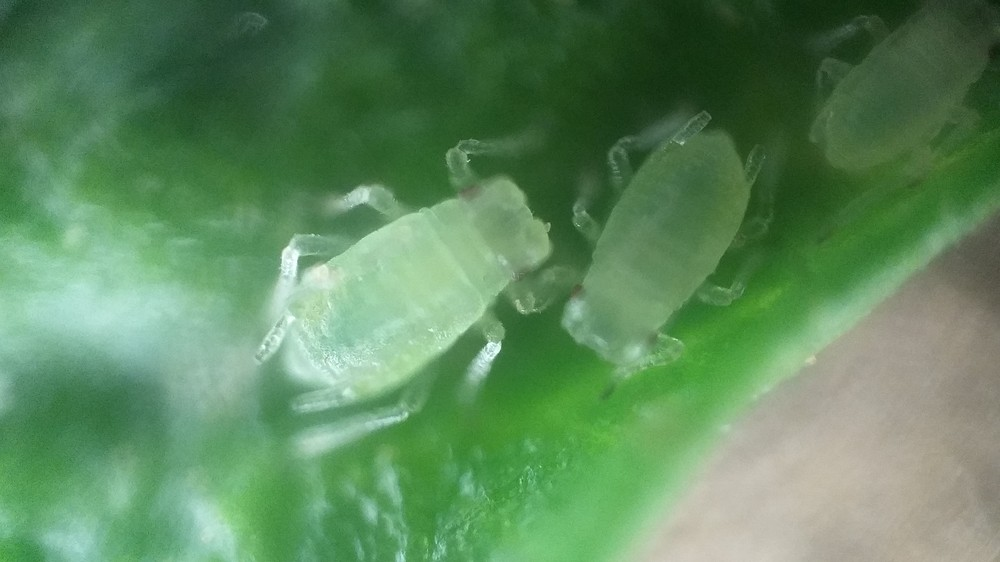Pulgon: (213, 125, 572, 476), (550, 80, 793, 426), (797, 3, 1000, 229)
